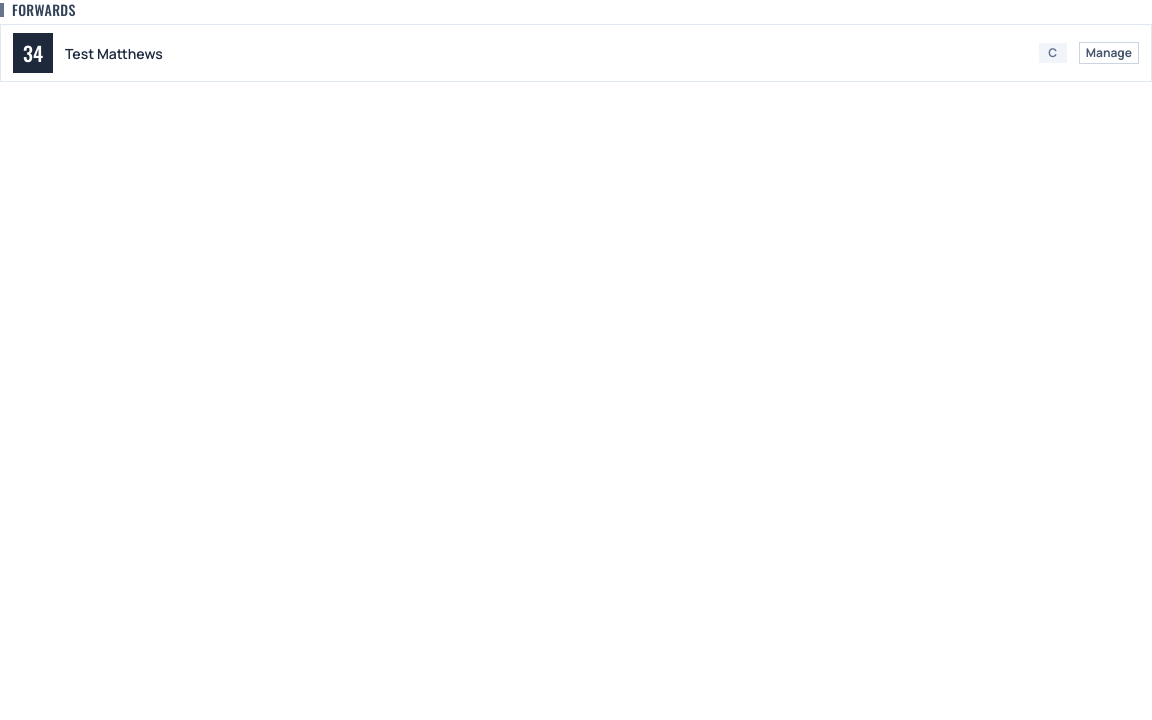
RosterList › lets the team's GM open the status dialog, choose a status, and confirm a retroactive date
This screenshot has width=1152, height=720.
Click the button "Manage".
click(1109, 53)  # box [1079,42,1139,64]
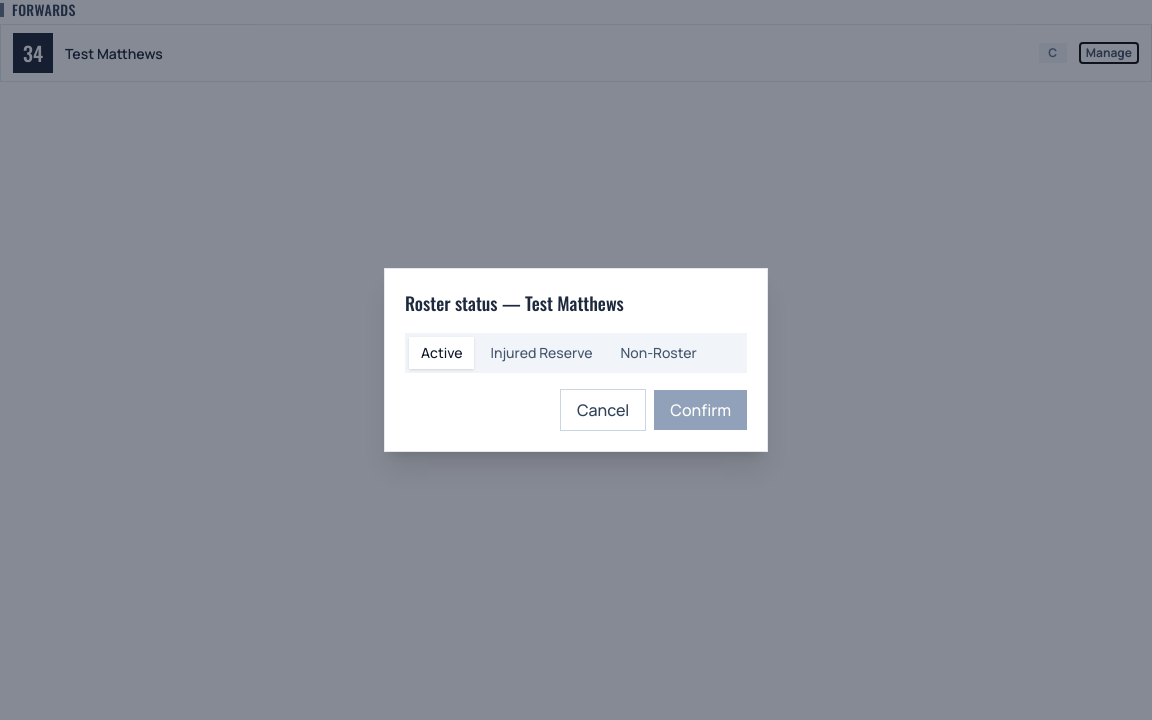
Click the button "Injured Reserve".
click(542, 353)  # box [478,337,605,369]
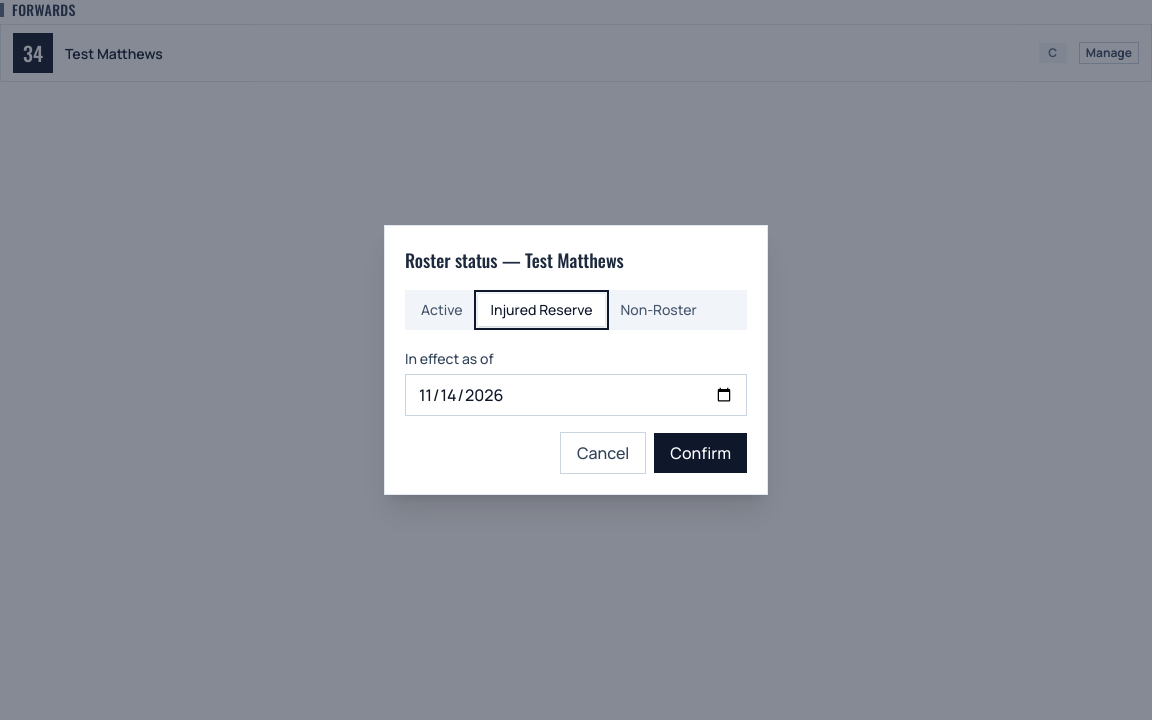
Type "2026-08-20" into the date field labelled "In effect as of".
click(576, 395); type("2026-08-20")  # box [405,374,747,416]
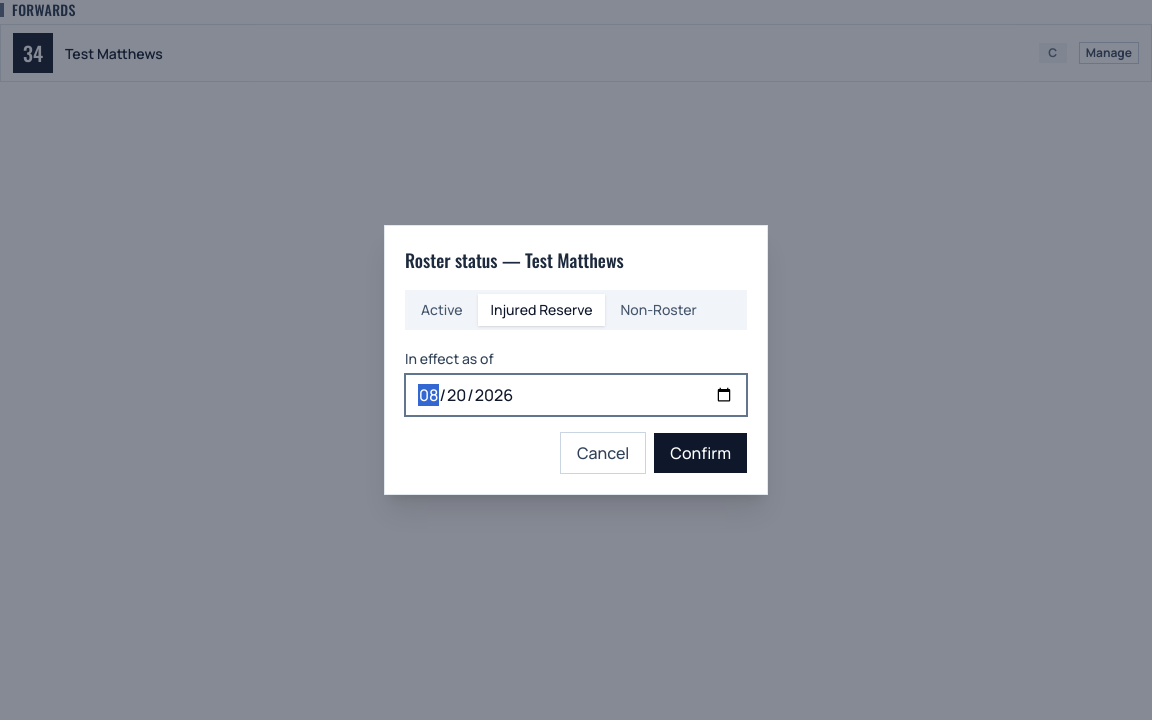
Click the button "Confirm".
click(701, 453)  # box [654,433,747,473]
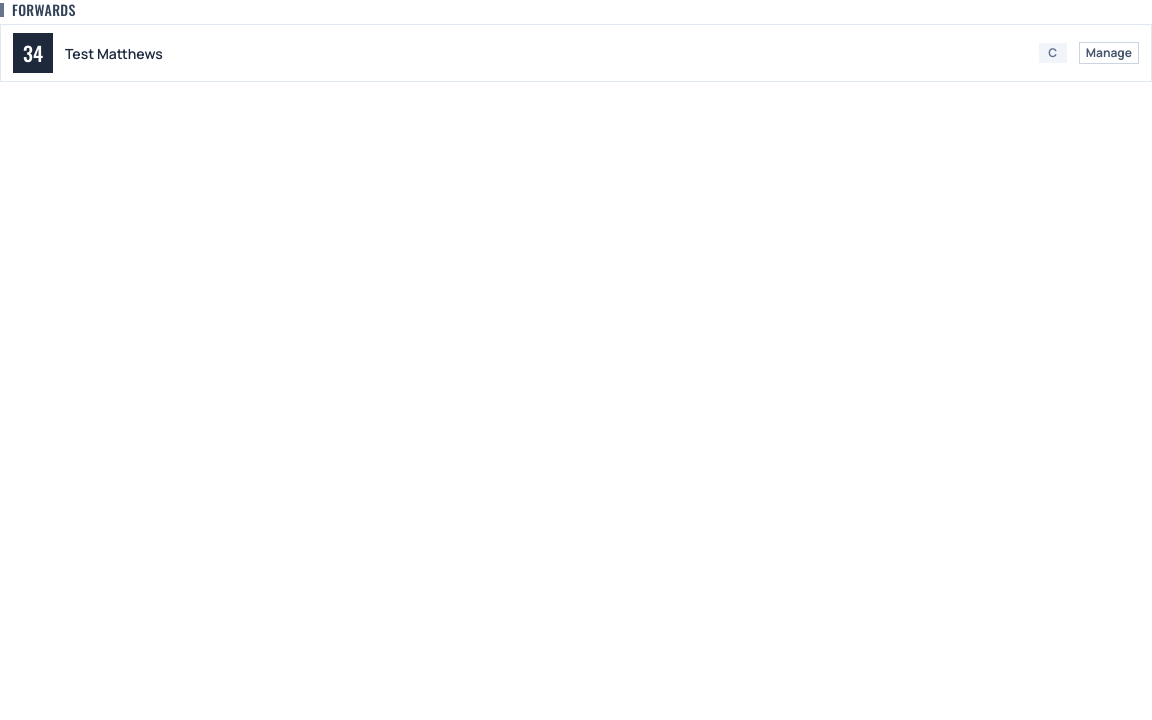
Expected: the dialog is gone
